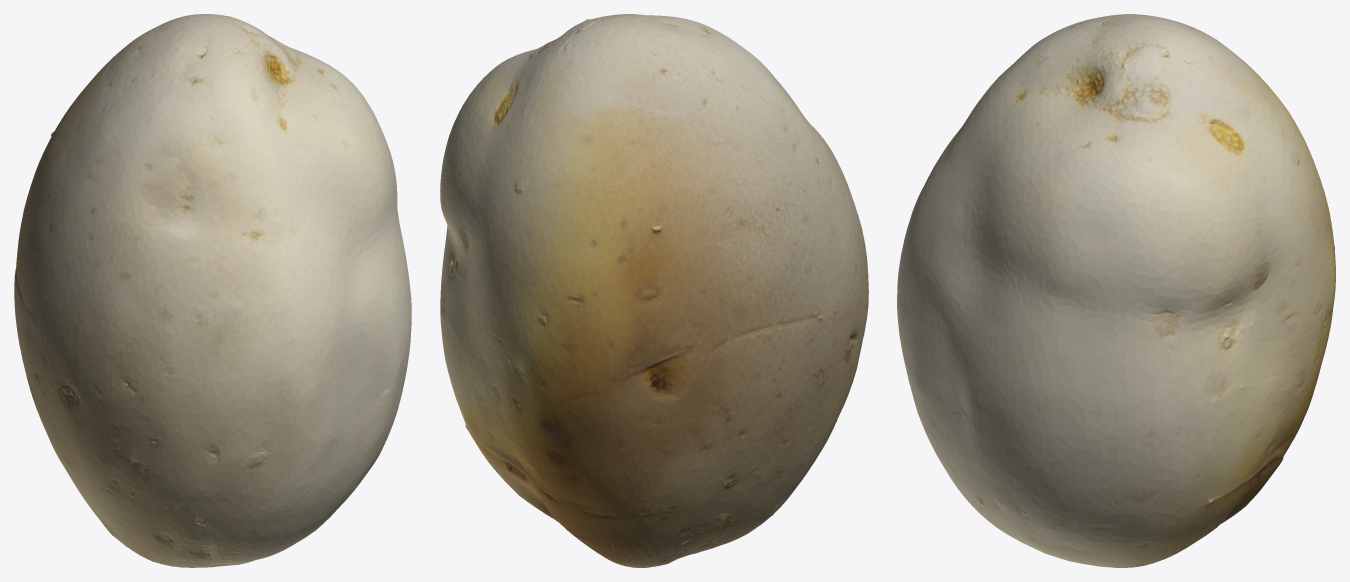
File: potato_ai_mesh_5.glb
3 views of the same model, side by side, from view 1: azimuth 30°, elevation 25°; view 2: azimuth 150°, elevation 25°; view 3: azimuth 270°, elevation 25° (orthographic). The views are drawn at different scales.
Parts seen in each view (by area): view 1: world; view 2: world; view 3: world.
Part boxes in pixels (x1,y1,x2,y2): world: (14,14,411,567); world: (440,14,868,567); world: (897,14,1335,567).
Bounding box in the file's own units: 0.7322 × 0.9953 × 0.7579.
1 material, 1 textured.
